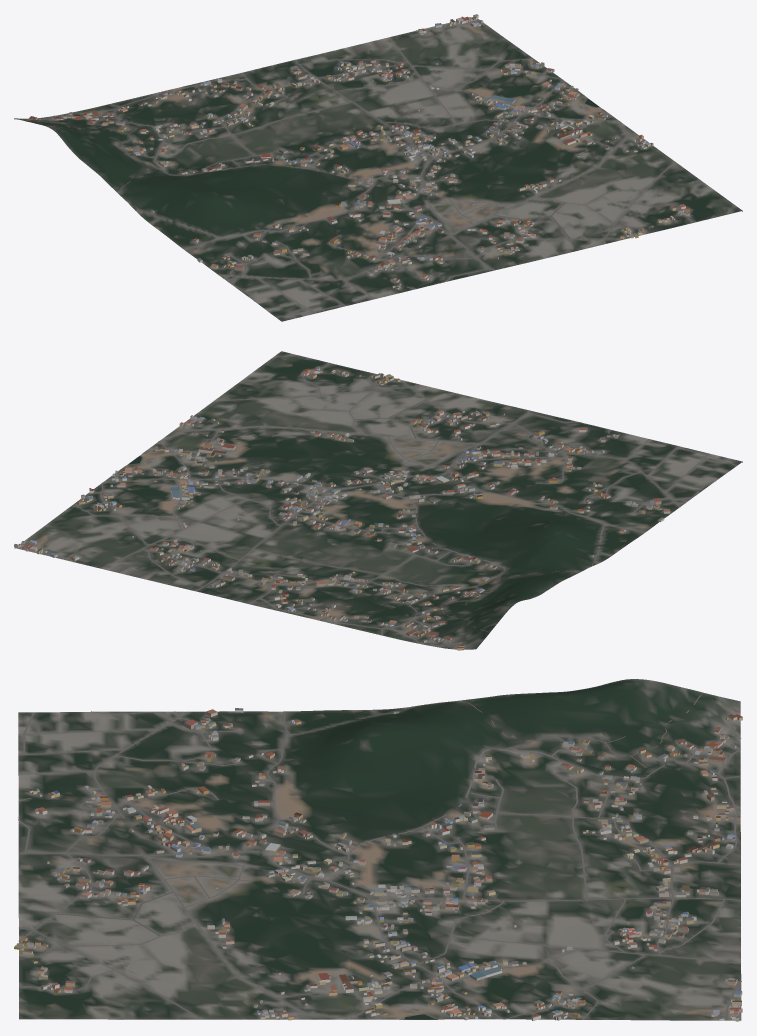
3 views of the same model, one above another, from view 1: azimuth 30°, elevation 25°; view 2: azimuth 150°, elevation 25°; view 3: azimuth 270°, elevation 25° (orthographic). The views are drawn at different scales.
Visible parts, largest first — view 1: ground, buildings, roads; view 2: ground, buildings, roads; view 3: ground, buildings, roads.
Part boxes in pixels (x1,y1,x2,y2): ground: (14,17,742,321); buildings: (28,14,689,289); roads: (34,20,692,317); ground: (14,351,742,649); buildings: (14,366,670,650); roads: (21,363,737,649); ground: (18,679,741,1020); buildings: (14,708,742,1021); roads: (18,693,741,1020).
Size of the model in its own units: 1408 by 83.2 by 1415.
